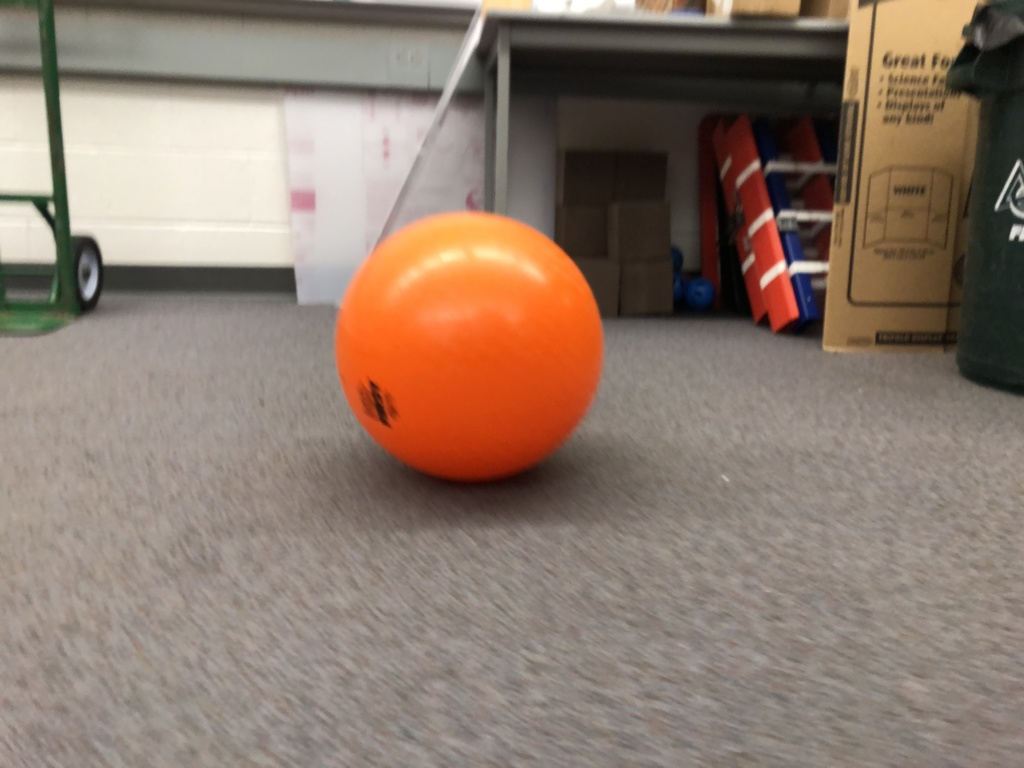cargo: (326, 198, 618, 500)
